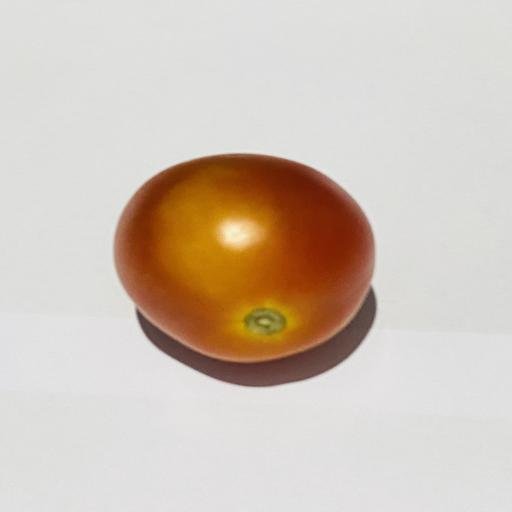ripe: (114, 154, 374, 363)
